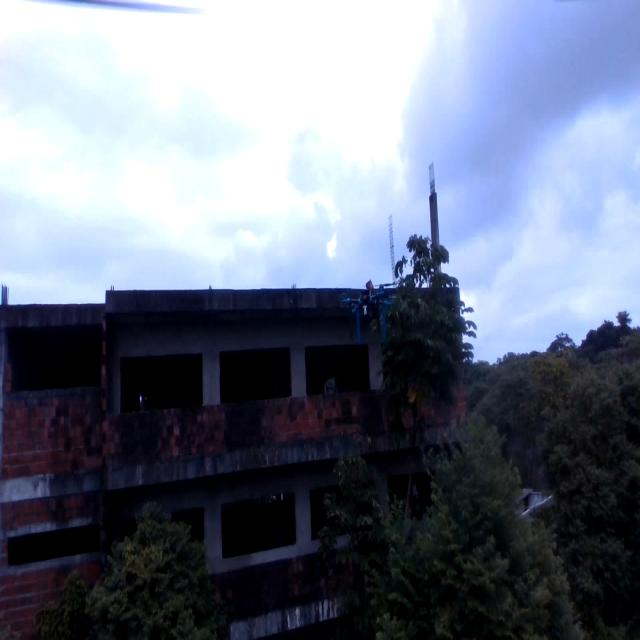-uav-: (335, 277, 409, 357)
